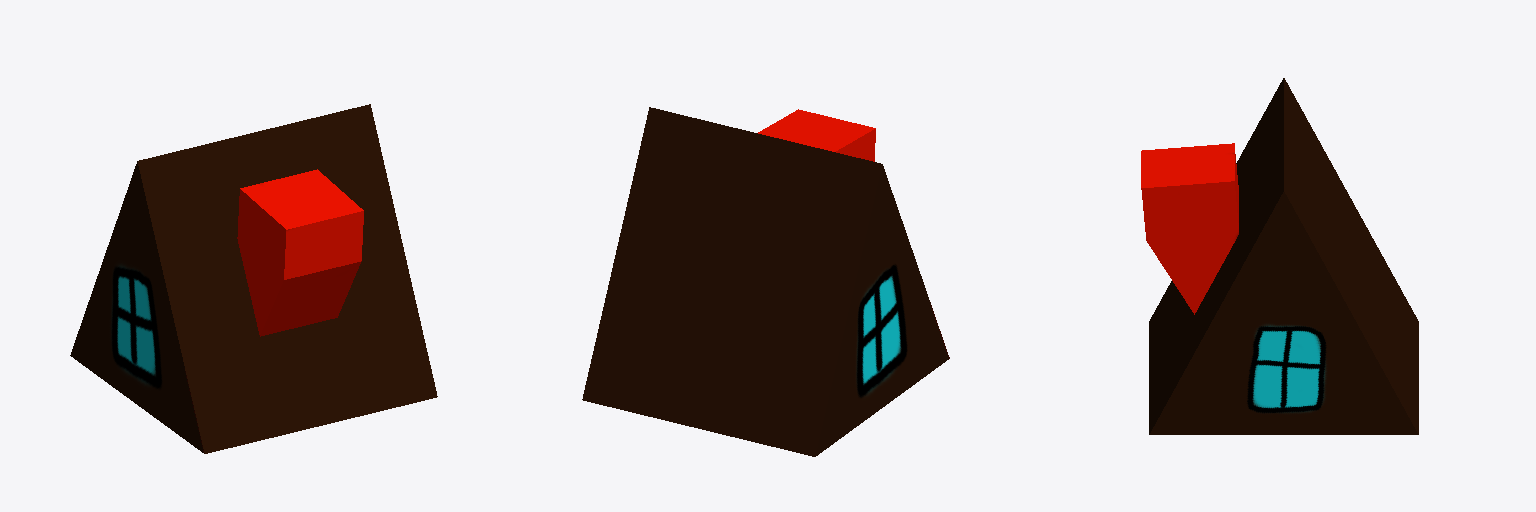
3 views of the same model, side by side, from view 1: azimuth 30°, elevation 25°; view 2: azimuth 150°, elevation 25°; view 3: azimuth 270°, elevation 25° (orthographic).
Visible parts, largest first — view 1: Cube; view 2: Cube; view 3: Cube.
Part boxes in pixels (x1,y1,x2,y2): Cube: (70, 104, 437, 453); Cube: (582, 107, 949, 456); Cube: (1141, 78, 1418, 434).
Size of the model in its own units: 2.2 by 2.2 by 2.27.
Materials: 1 (1 with a texture image).